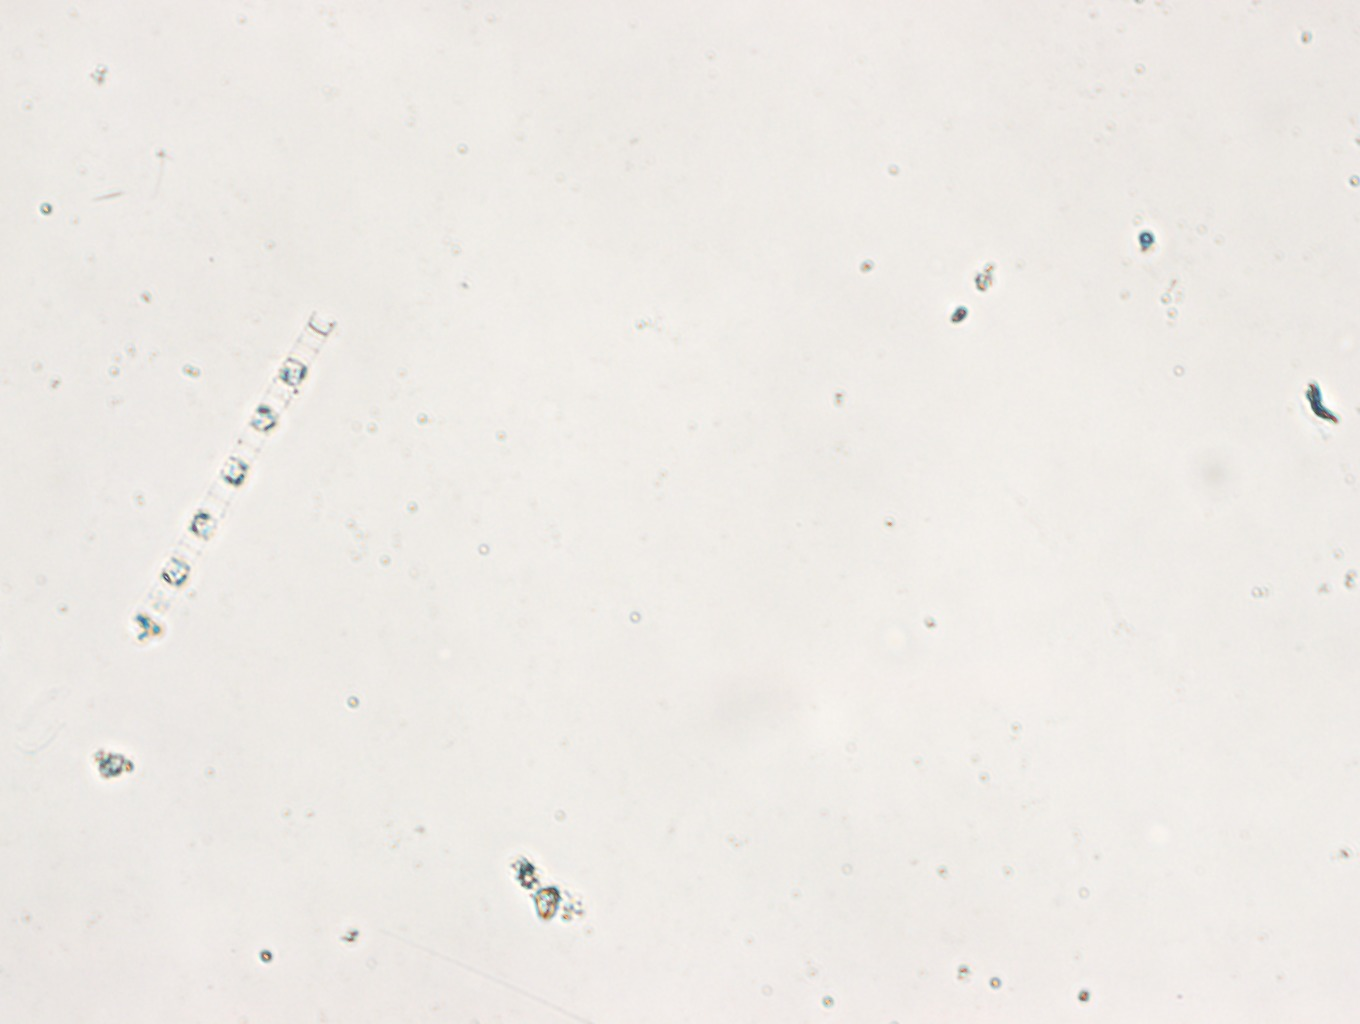skeletonema: (126, 305, 338, 649)
